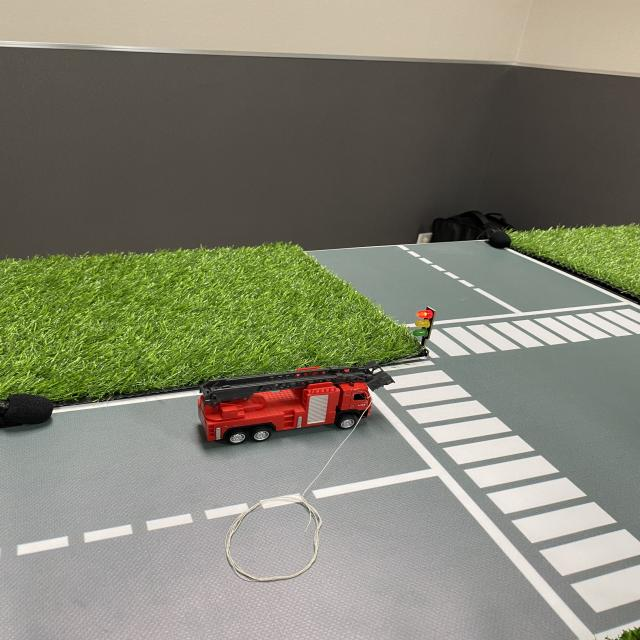Fire Truck: (194, 356, 399, 448)
